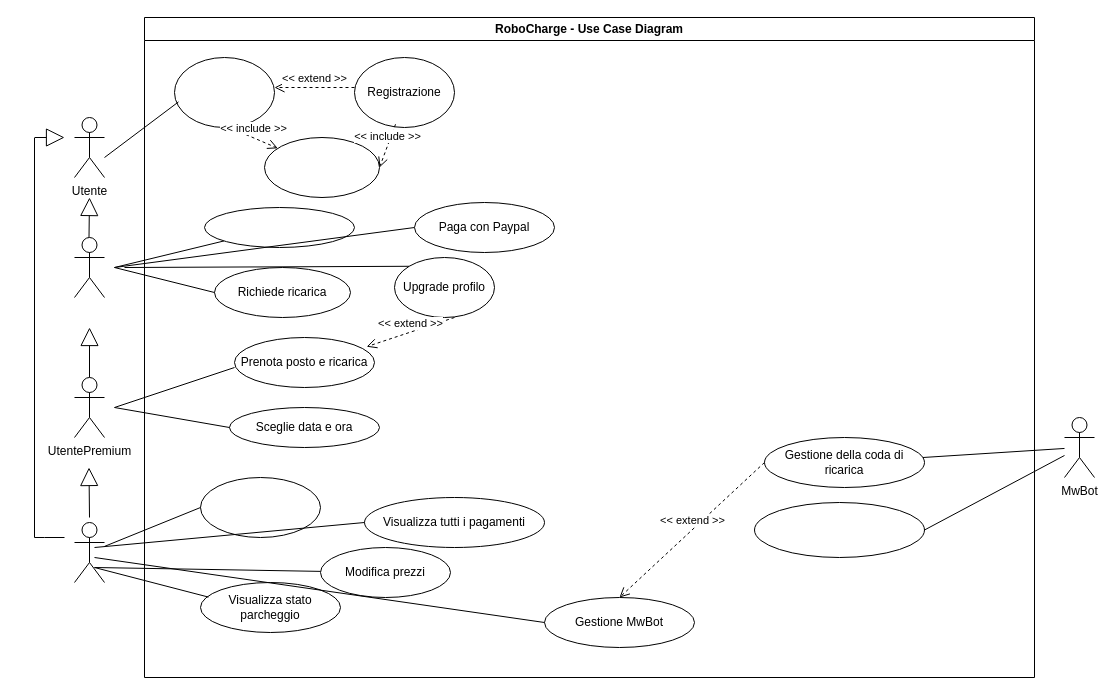
The diagram is 1115 pixels wide and 695 high, and some of its shapes have lost their labels. Here are the shapes that lost their labels. From the top down, the centre of each, then its label:
At point (224, 92): "Login".
At point (322, 167): "Autenticazione Google".
At point (279, 227): "Parcheggia".
At point (89, 267): "UtenteBase".
At point (260, 507): "Visualizza tutti gli utenti iscritti".
At point (839, 530): "Ricarica percentuale della batteria richiesta".
At point (89, 552): "UtenteAdmin".
